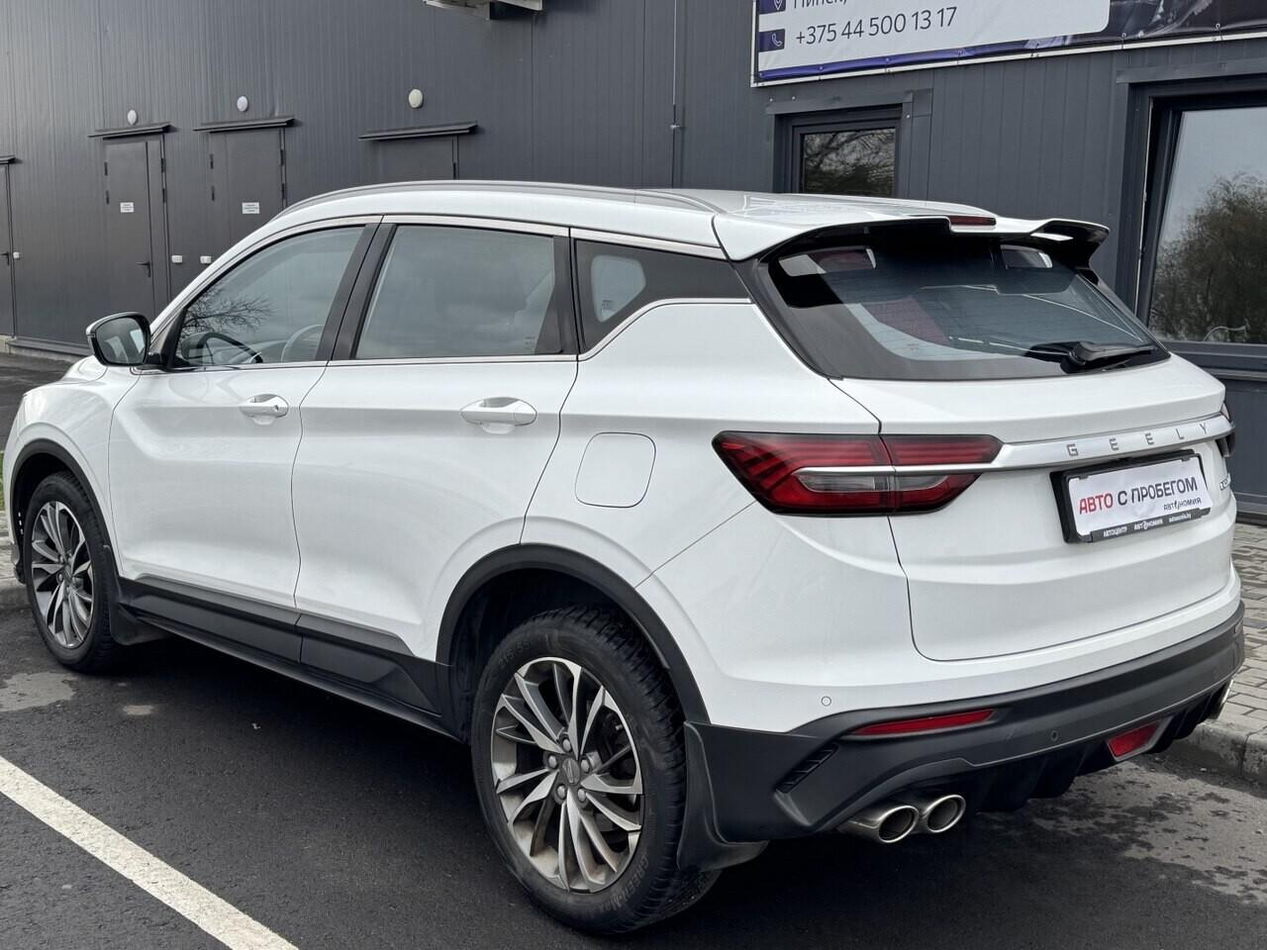Coolray_2019-2023: (0, 177, 1251, 926)
